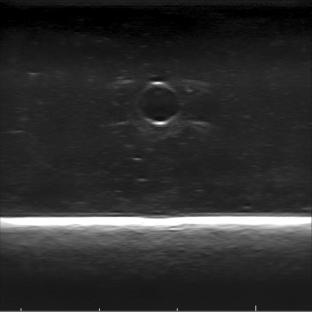vessel: (136, 79, 184, 127)
